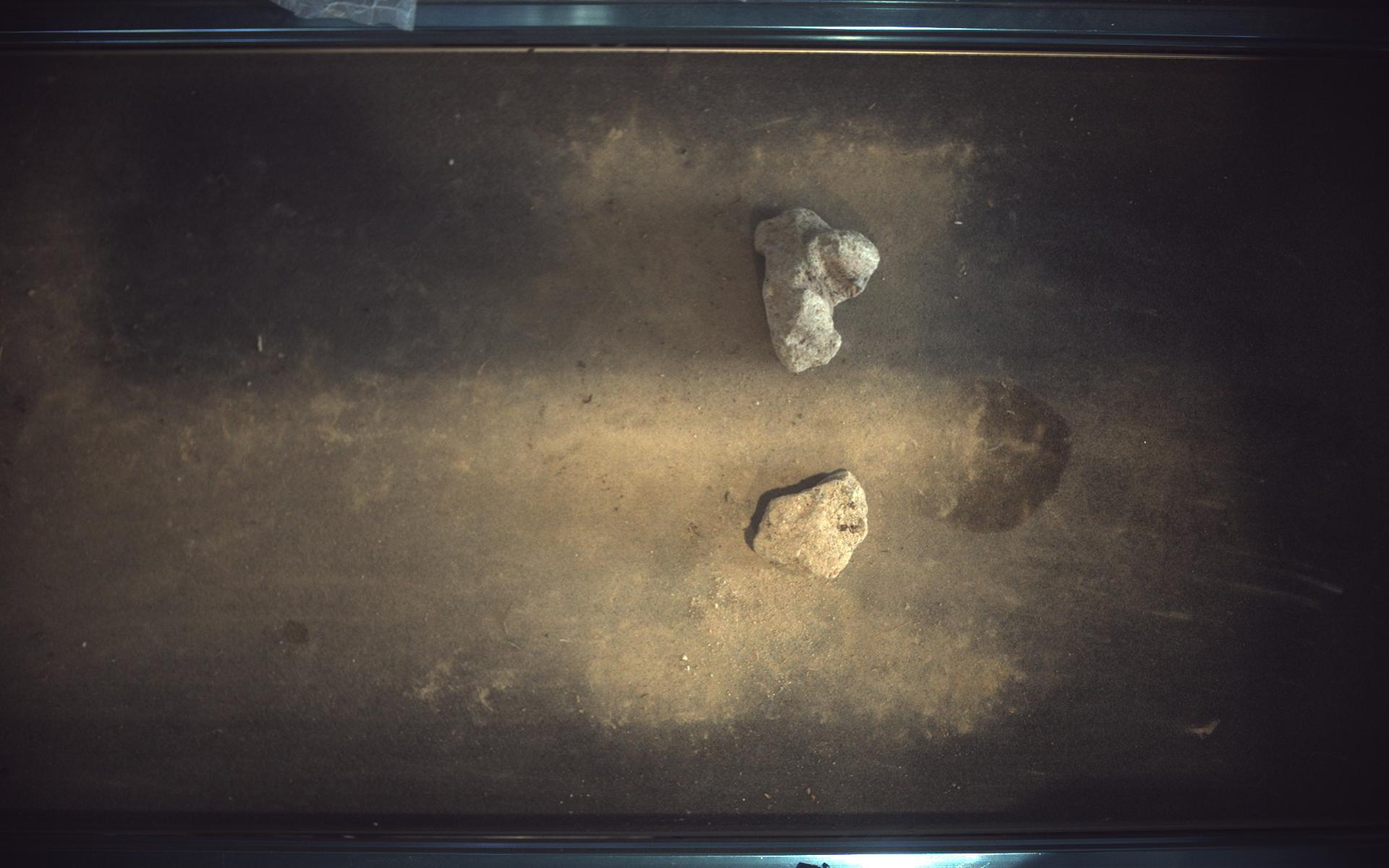stone: (756, 208, 881, 373), (754, 470, 870, 579)
